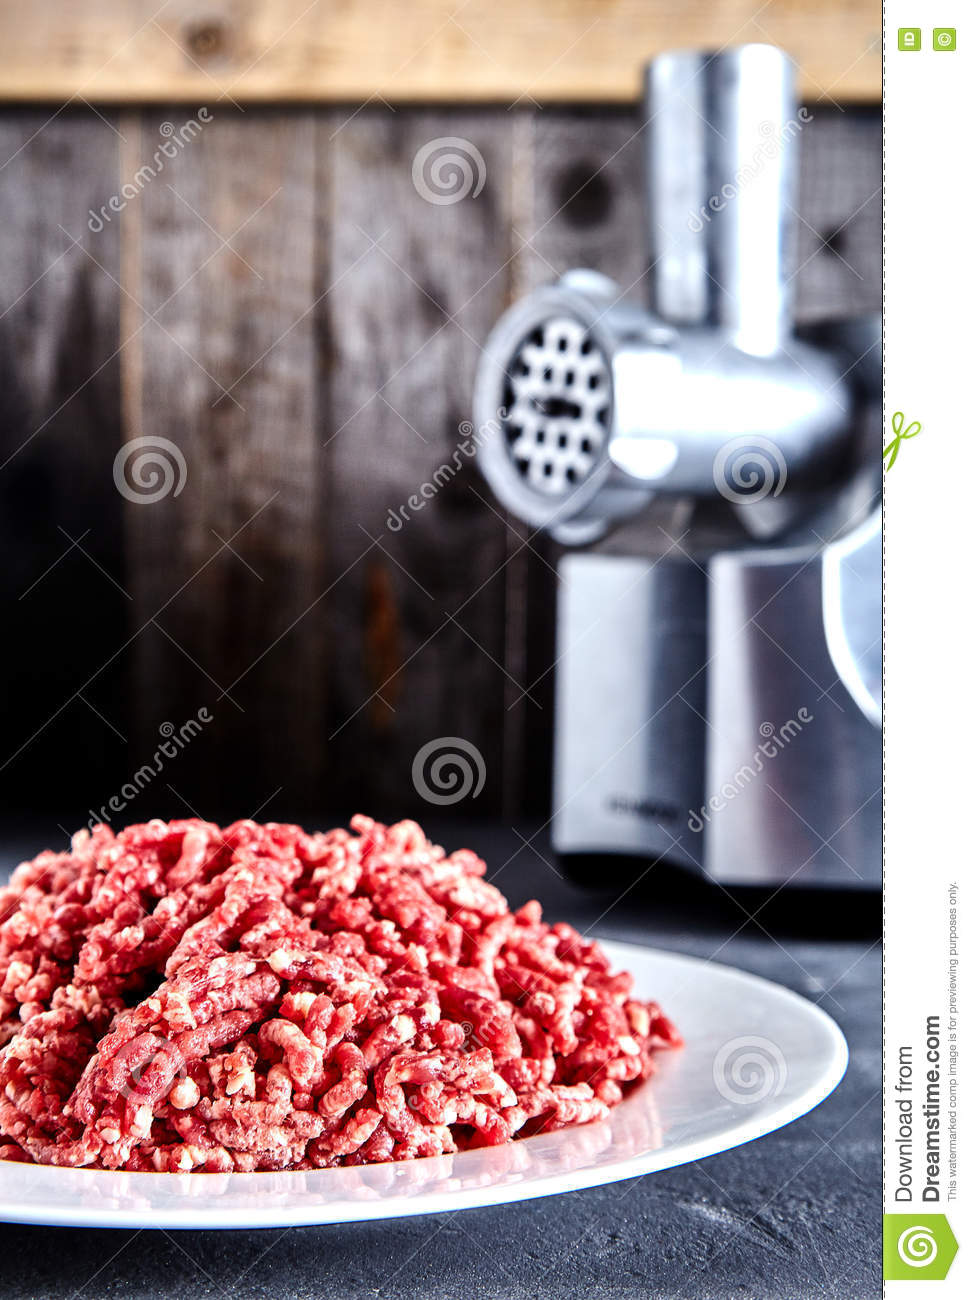ground_beef: (1, 821, 647, 1173)
